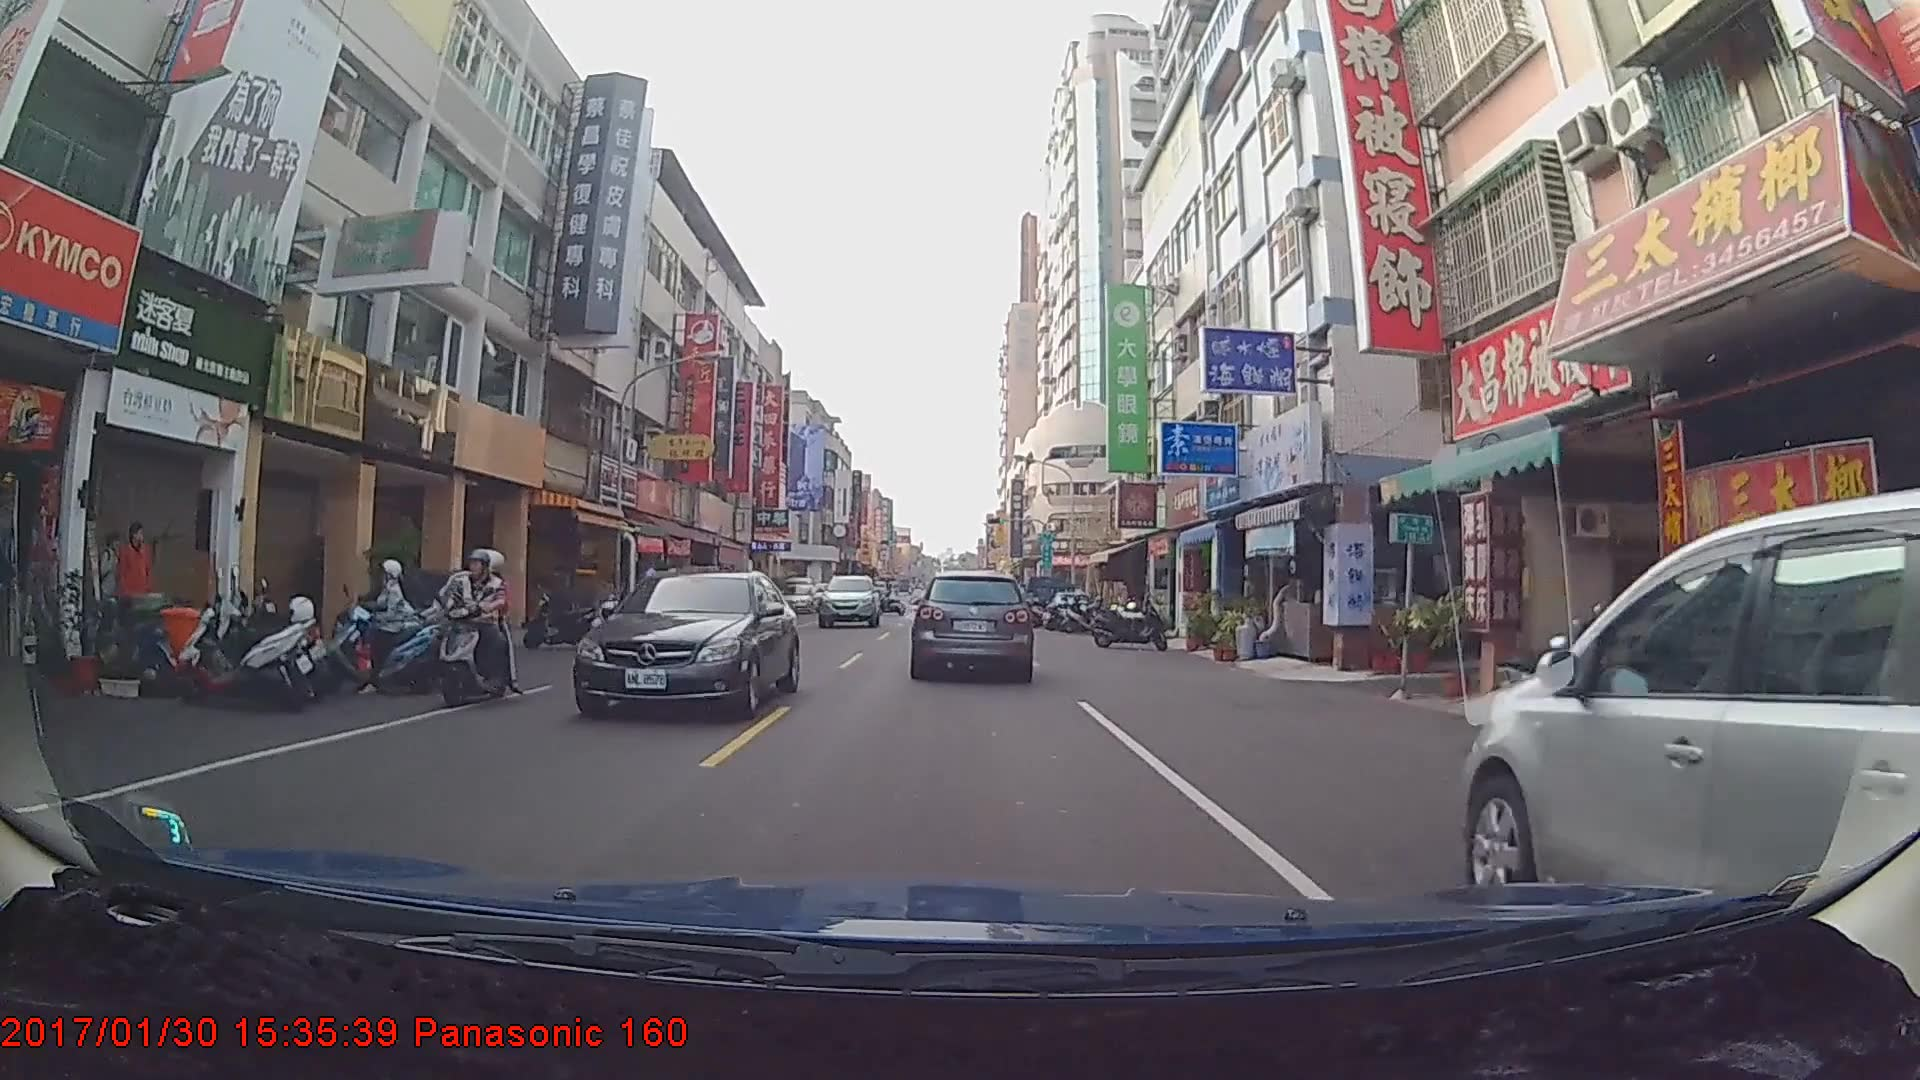pedestrian: (115, 516, 163, 645), (94, 522, 132, 640)
rider: (418, 544, 526, 713)
vehicle: (1460, 492, 1920, 990), (569, 568, 799, 720), (910, 572, 1031, 679), (816, 573, 880, 629), (1024, 574, 1072, 619)
